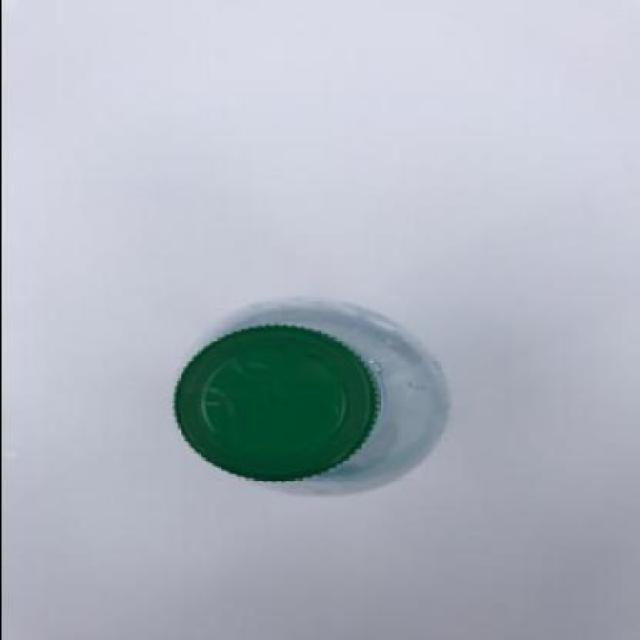PLASTIC: (170, 296, 450, 496), (176, 323, 382, 480)
